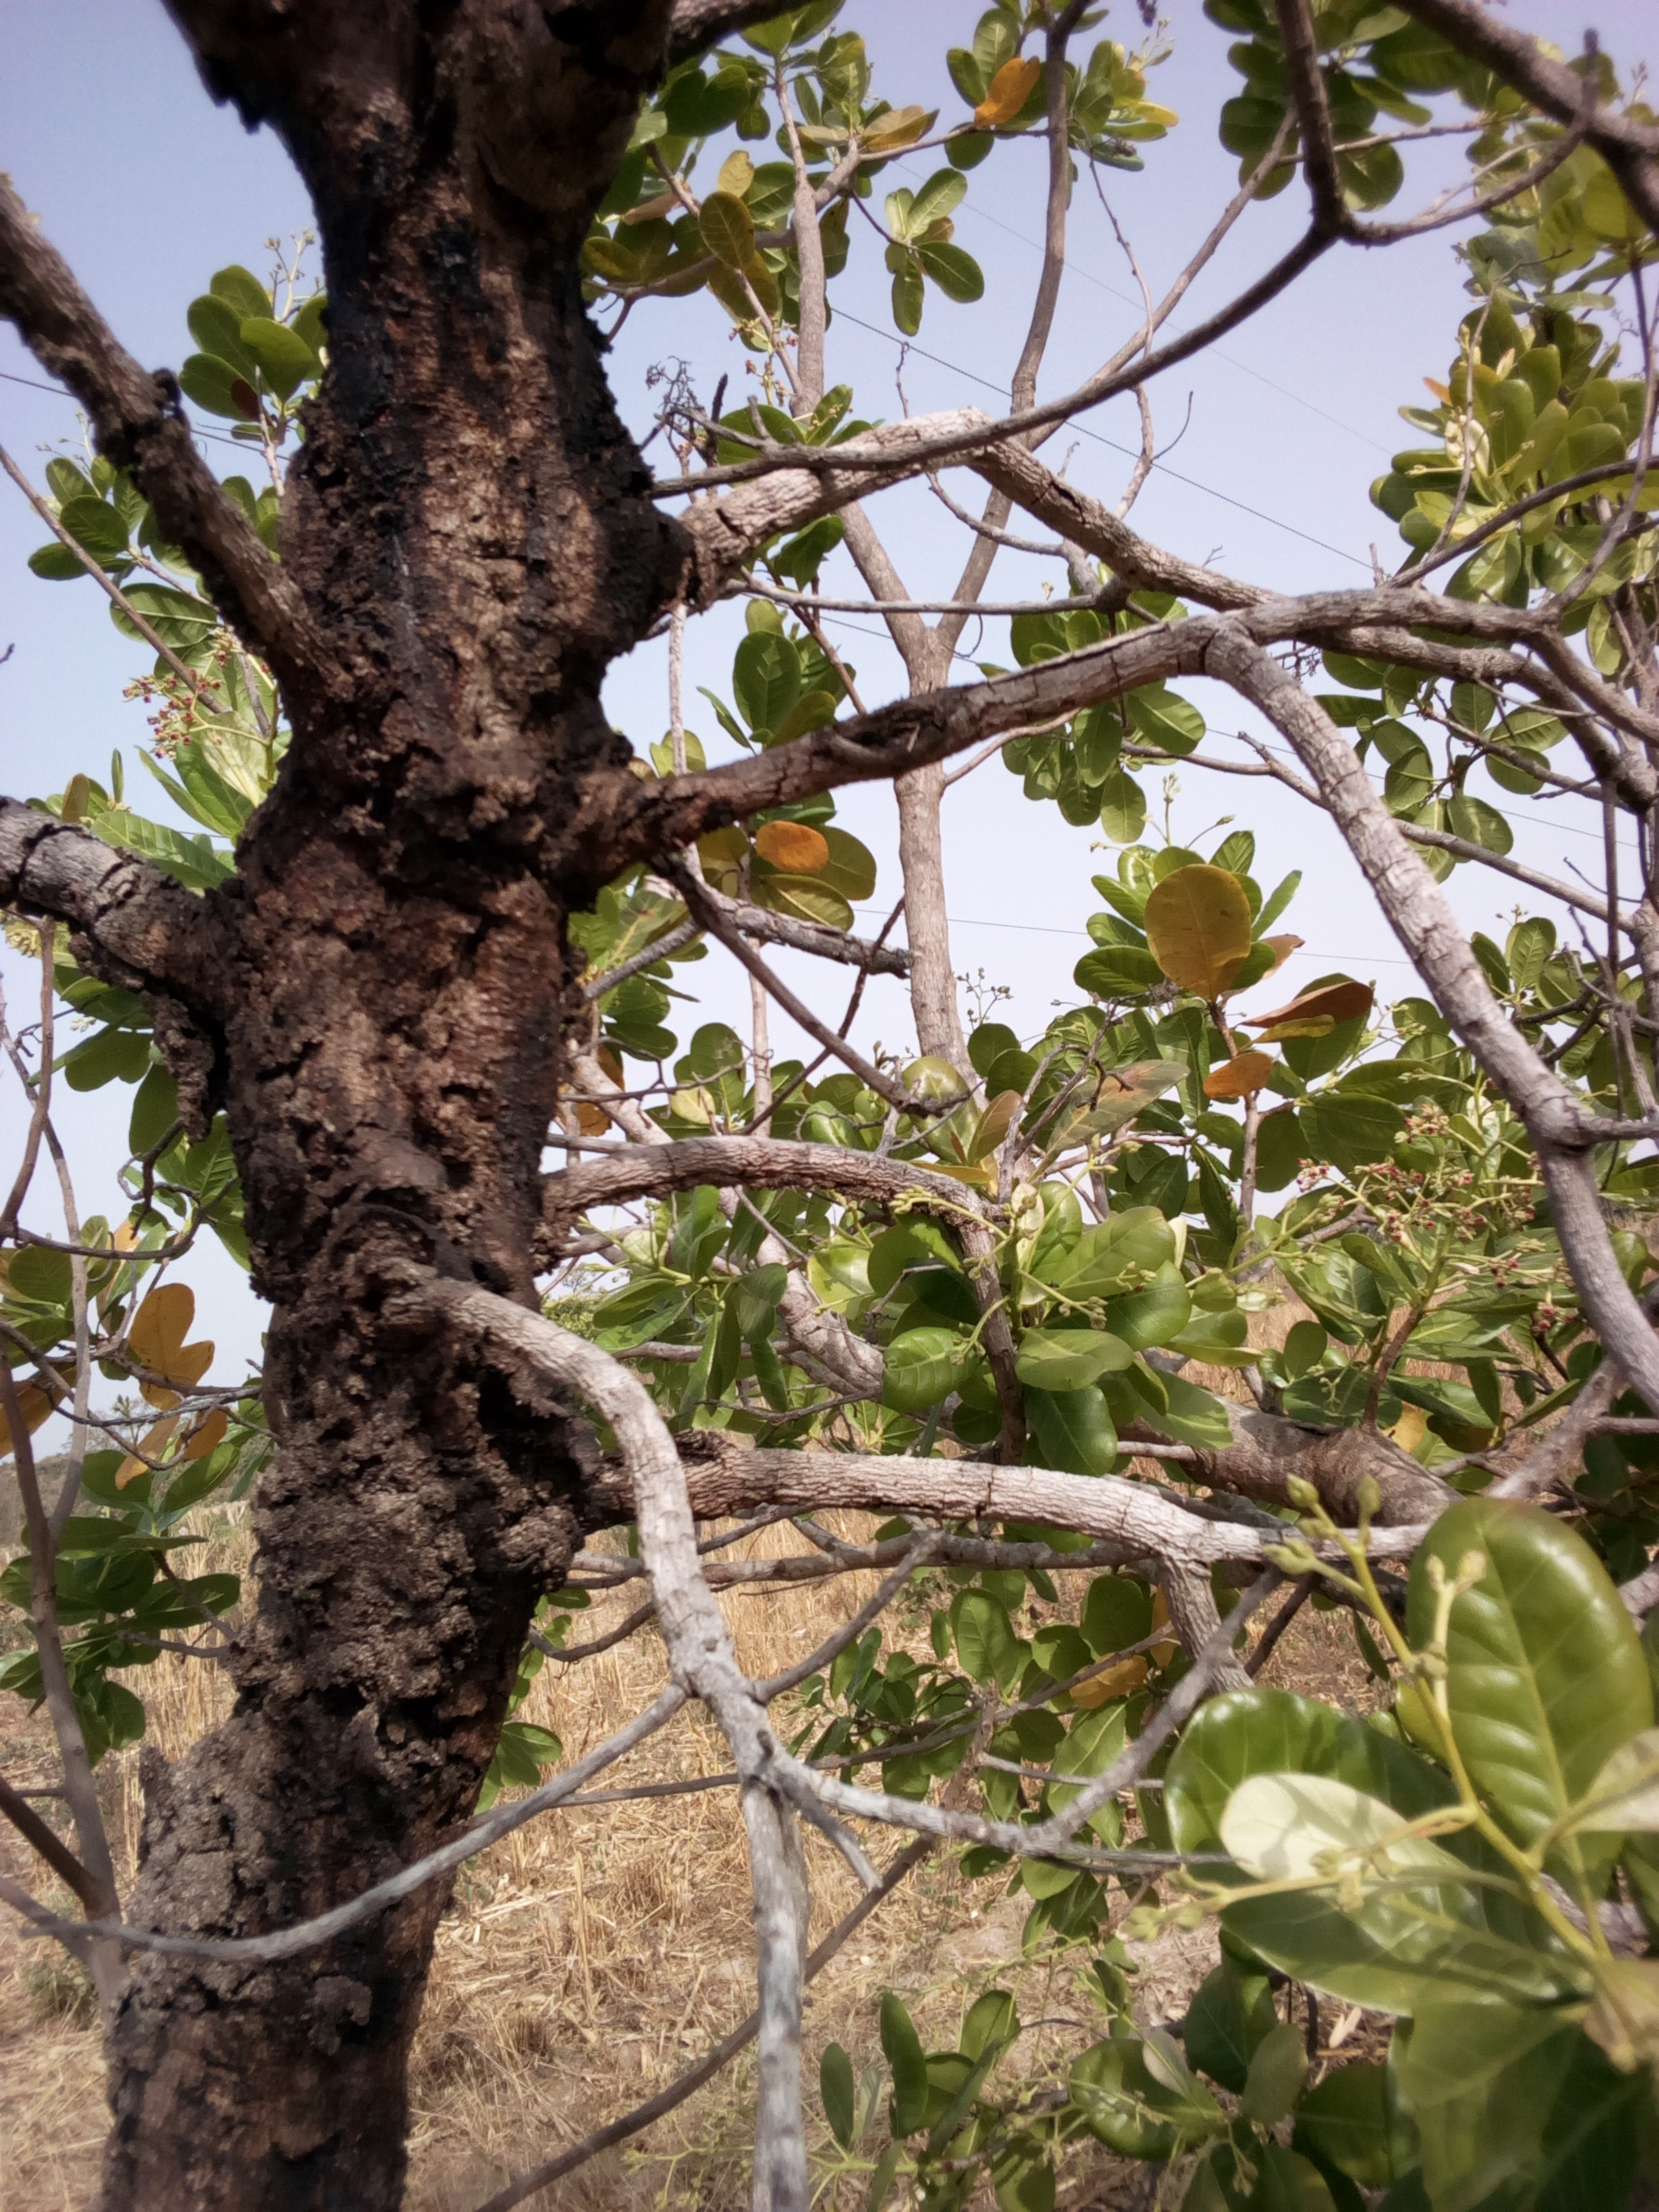Termites: (305, 188, 565, 1759), (134, 1784, 410, 2207)
